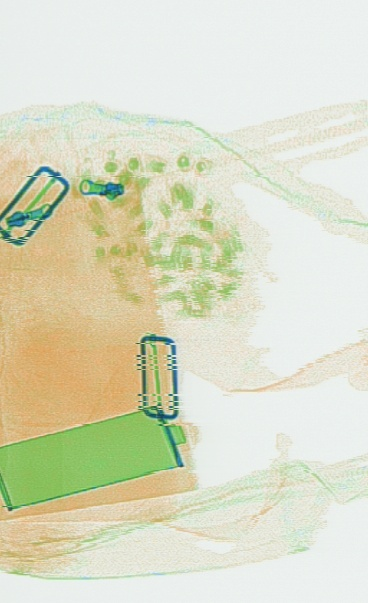firecrackers: (71, 135, 244, 319)
zippooil: (2, 403, 199, 509)
